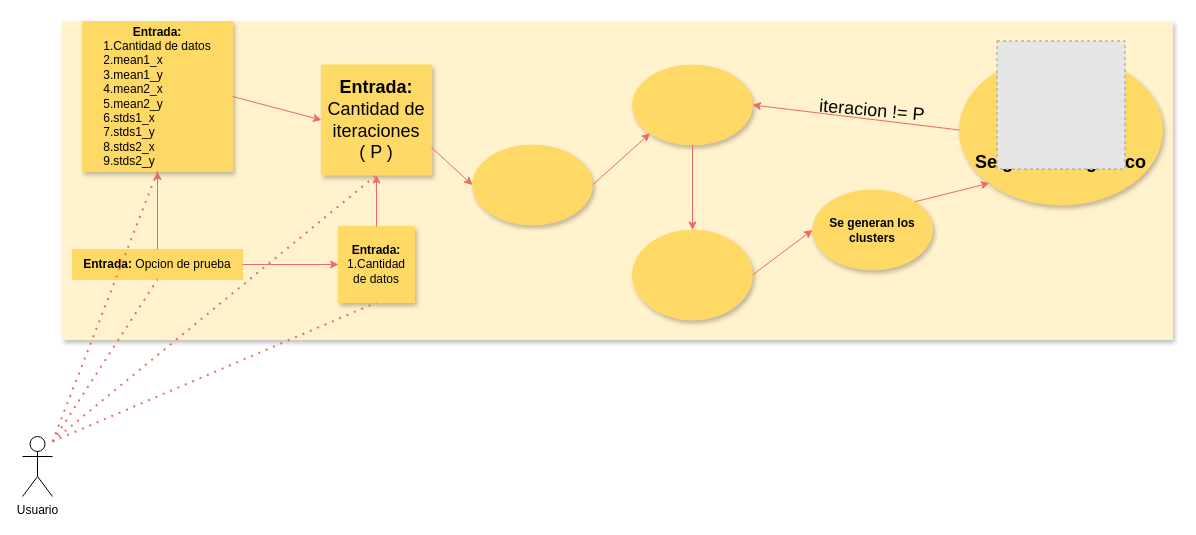
The diagram is 1196 pixels wide and 535 high, and some of its shapes have lost their labels. Grey dashed boxes stand in for pictures. The centre of each missing label's shape, as x and y in pixels:
Se calcula la matriz W: (693,276)
Se crean los centroides: (693,106)
Se generan los datos (matriz X): (533,186)
